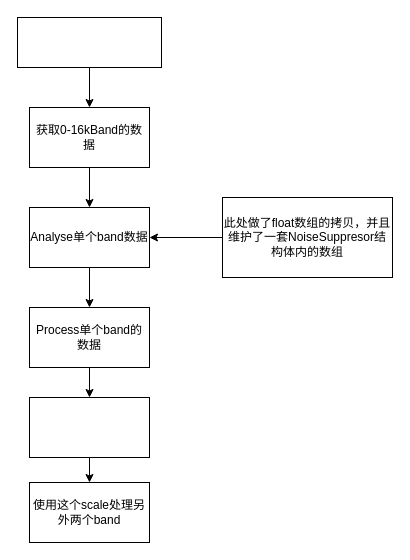
This 410x560 diagram has some shape labels left out. Each missing label, with the centre of its shape:
"对音频进行16K的分频，共三个band" belongs at point (89, 42).
"输入第一个band的数据，然后输出处理后的band，以及一个scale缩放比例" belongs at point (89, 427).
